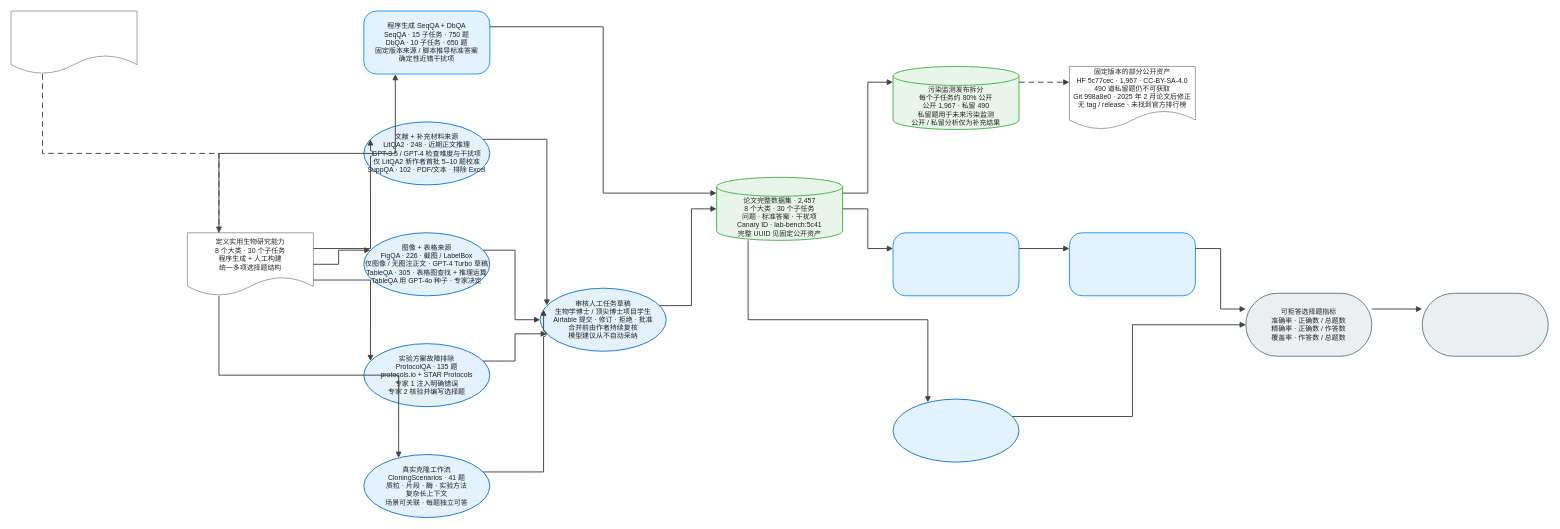
The diagram is 1560 pixels wide and 529 high, and some of its shapes have lost their labels. The shapes that lost their labels are listed below. From the top down, each one's centre as x and y in pixels, then its label:
At (x=73, y=42): "一手证据与固定版本 arXiv:2407.10362v3 官方 Git 998a8e0 官方 HF 5c77cec 最新可核验论文为预印本 v3".
At (x=955, y=264): "在完整集上运行论文模型基线 随机排列选项 + 信息不足选项 无工具 · 零样本思维链 要求在 [ANSWER] 标签中输出一个字母".
At (x=1132, y=264): "论文解析器 + 重复运行 先用正则提取 [ANSWER] 字母 正则失败时回退 Claude 2 运行 3 次 · 报告均值 ± 标准差".
At (x=1484, y=324): "汇报主结果 + 补充结果 完整 2,457 题模型结果为主结果 按大类和子任务拆分 模型均值 ± 标准差 + 人类对比 公开 / 私留差异仅为补充分析".
At (x=955, y=430): "抽样人类专家基线 博士级生物研究人员 可用网页 / 代码 / DNA 工具 · 禁用 AI 确定 / 不确定 · 总体覆盖 69% 不向答题者分配本人编写的问题".
